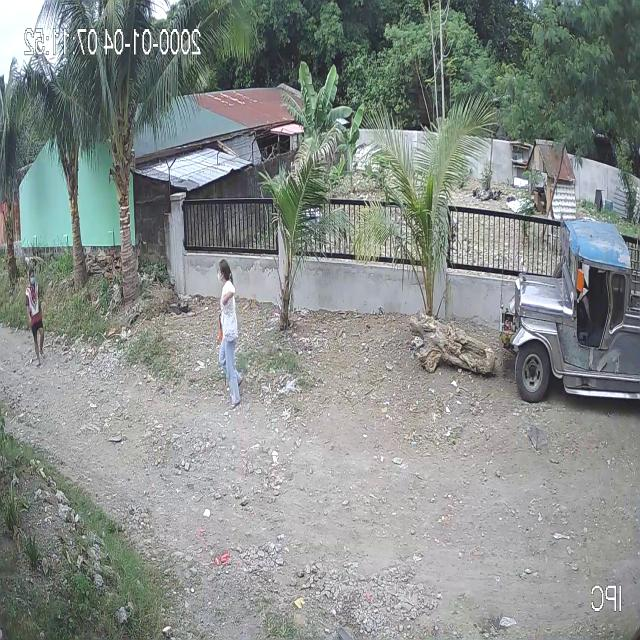walking: (212, 257, 248, 413), (24, 267, 46, 373)
